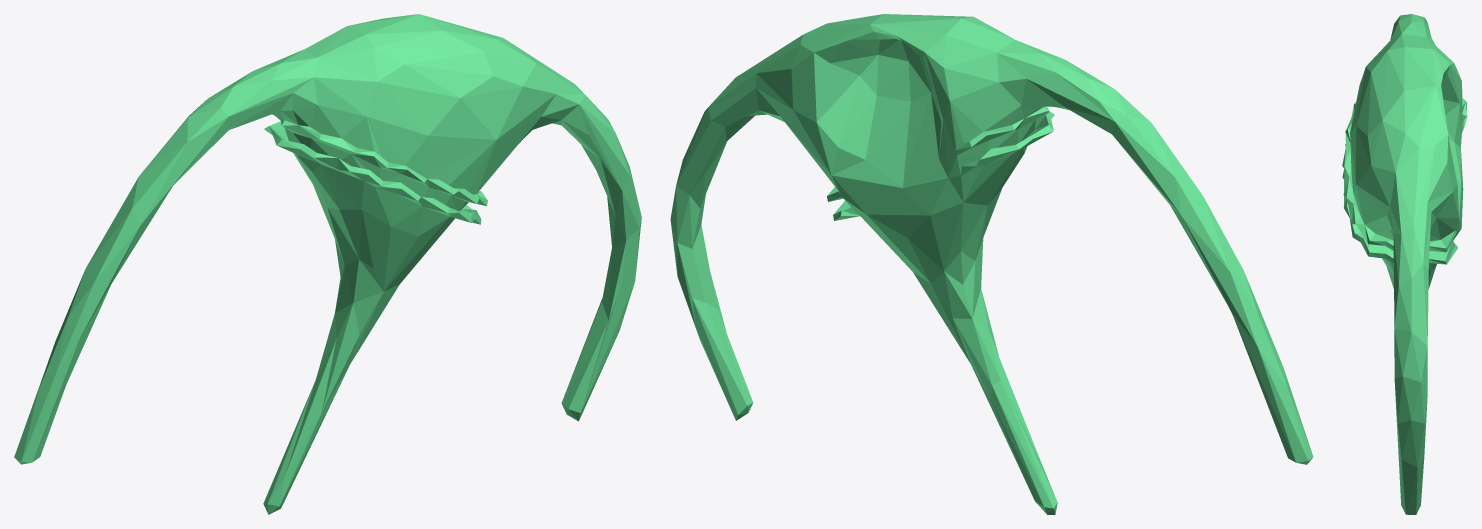
The model's file is ceratium.fbx.
3 renders of one model, left to right at view 1: azimuth 30°, elevation 25°; view 2: azimuth 150°, elevation 25°; view 3: azimuth 270°, elevation 25°, orthographic. The views are drawn at different scales.
Visible parts, largest first — view 1: Ceratium; view 2: Ceratium; view 3: Ceratium.
Boxes of the visible parts, x1=… form: Ceratium: x1=14, y1=14, x2=641, y2=514; Ceratium: x1=670, y1=14, x2=1313, y2=514; Ceratium: x1=1342, y1=14, x2=1467, y2=514.
Bounding box in the file's own units: 80394 × 56900 × 16391.
